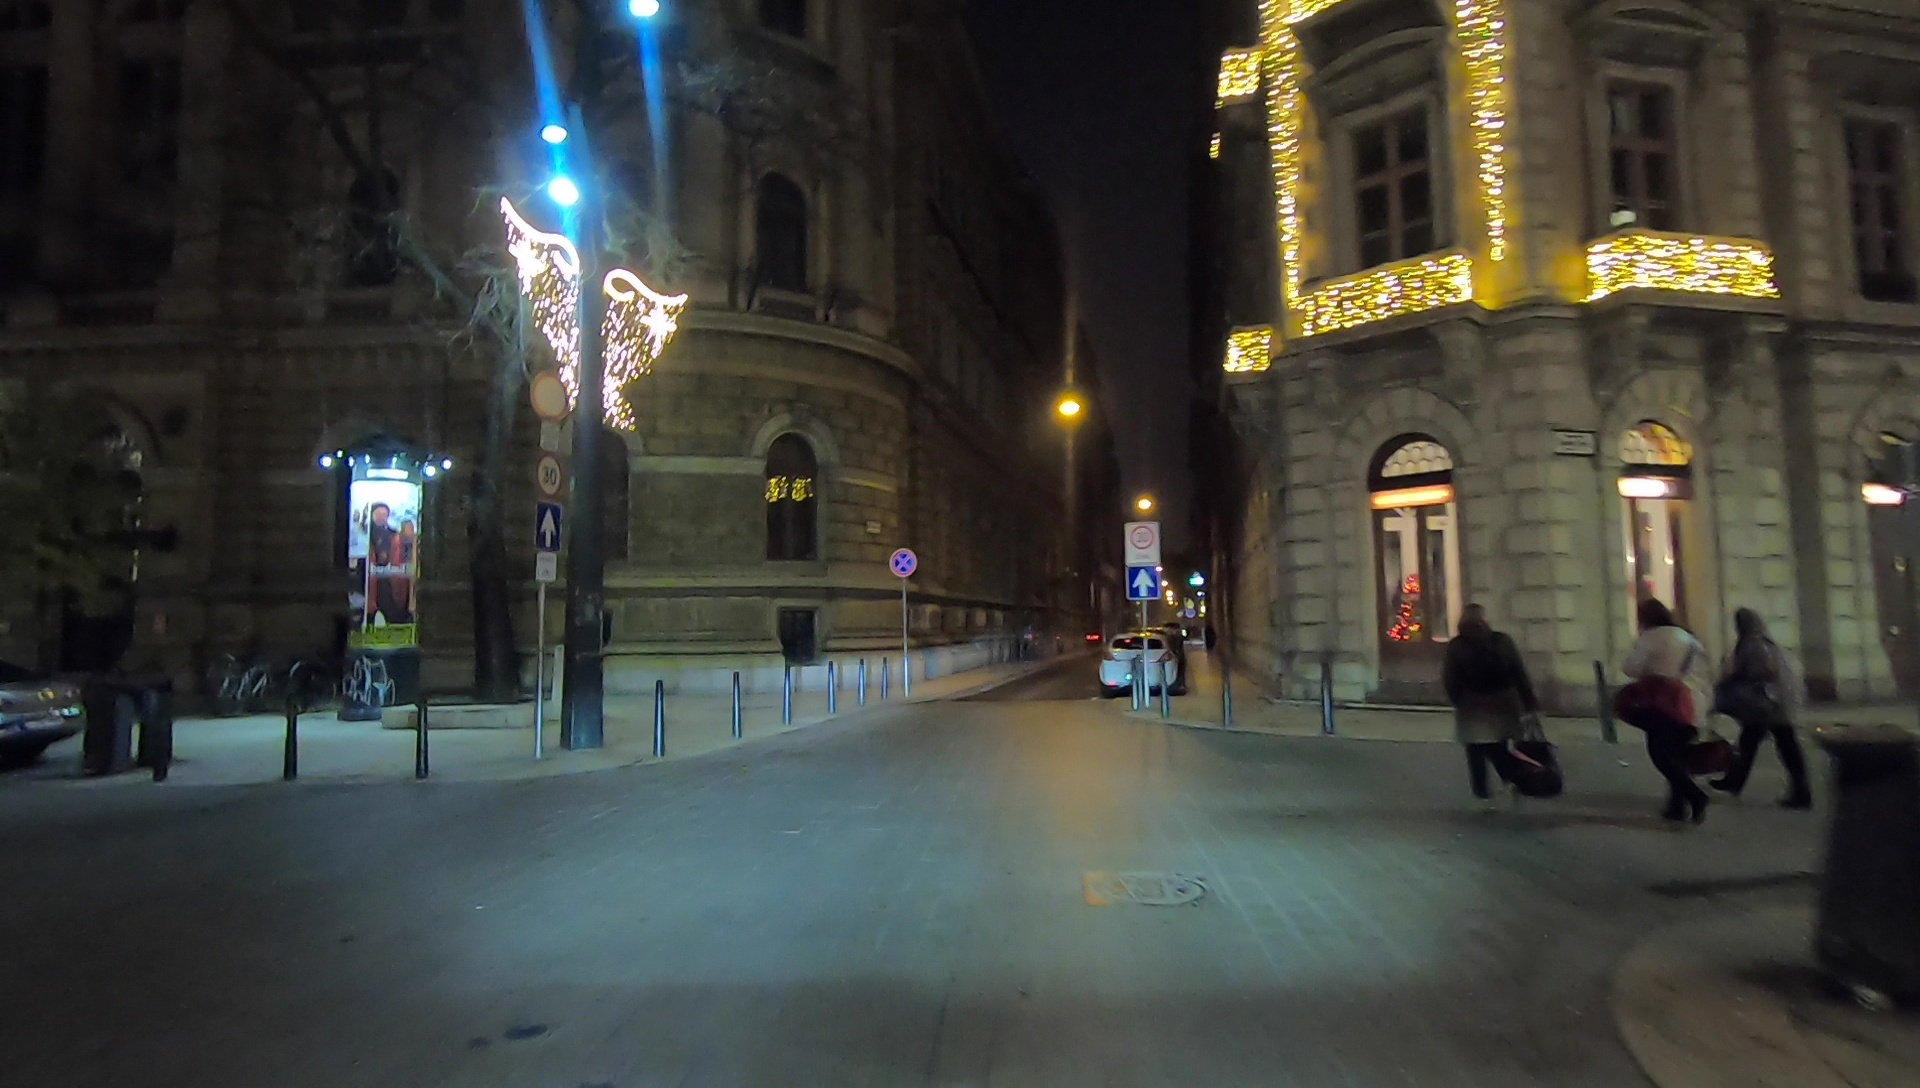person: (1447, 604, 1562, 800), (1615, 599, 1715, 824), (1719, 599, 1814, 815)
